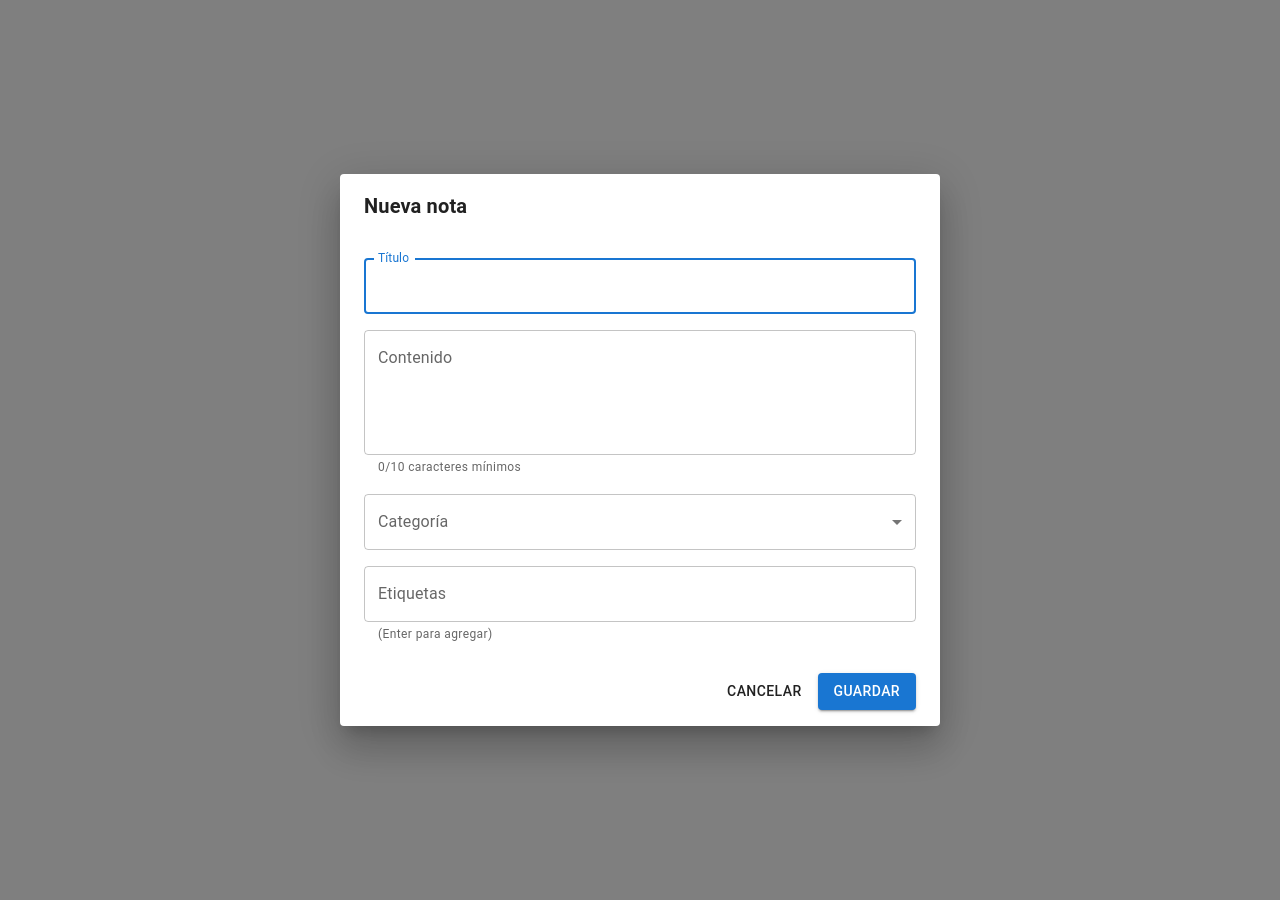
Scenario: NoteForm › shows error when content is too short
In the field labelled "Título": [640, 286] box [364, 258, 916, 314], type "My Title"
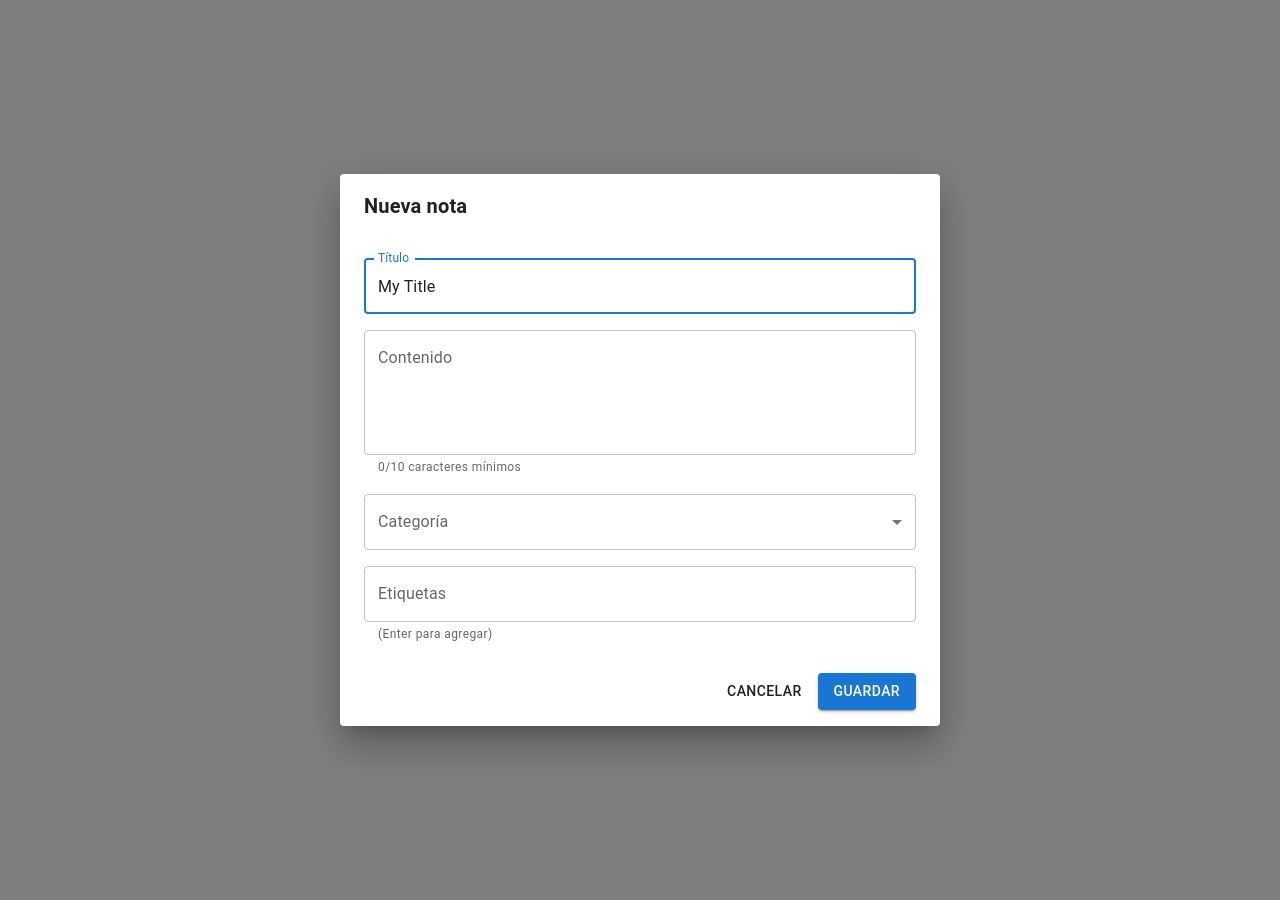
In the text box labelled "Contenido": [640, 393] box [378, 347, 902, 439], type "short"
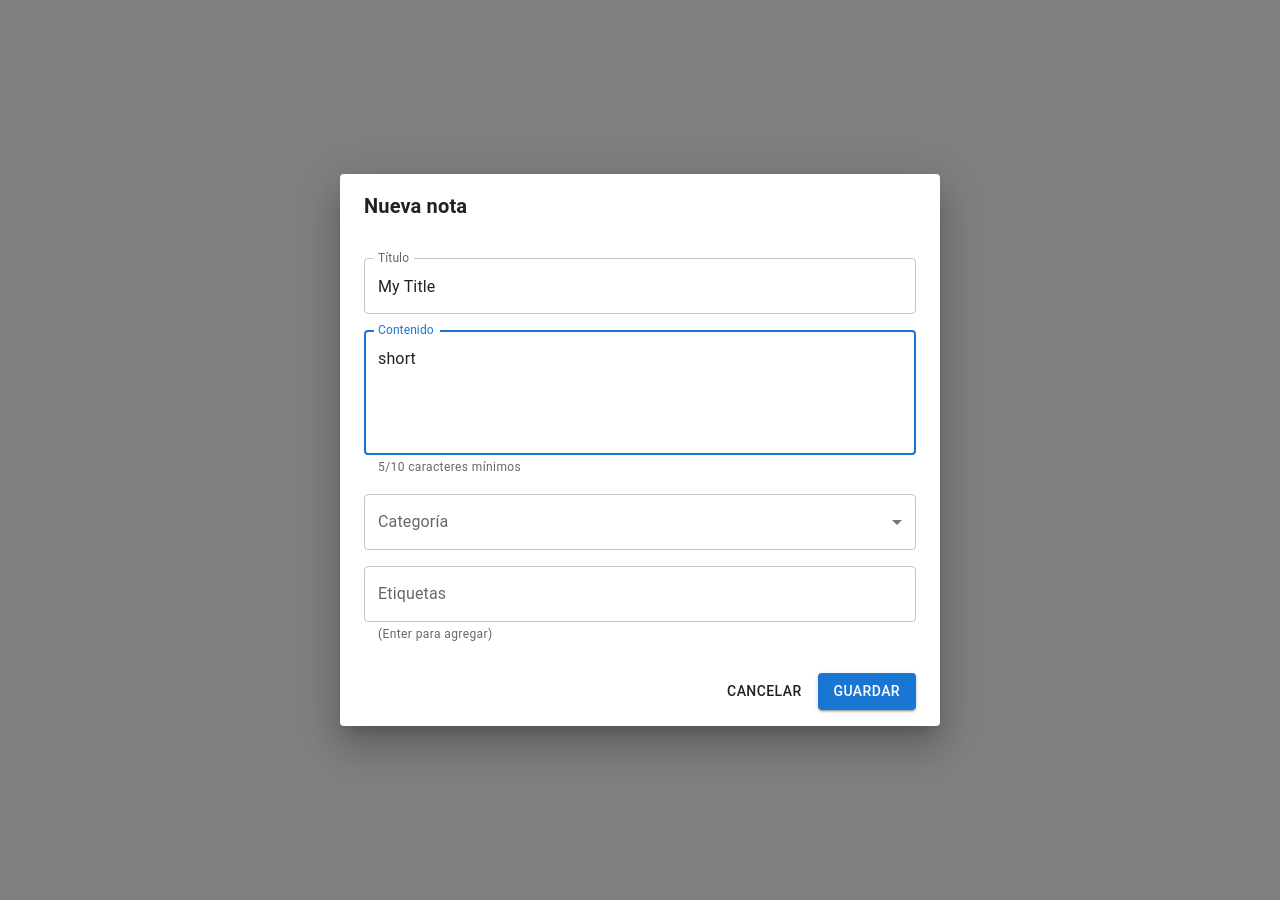
Click the button "Guardar": [867, 691] box [818, 673, 916, 710]
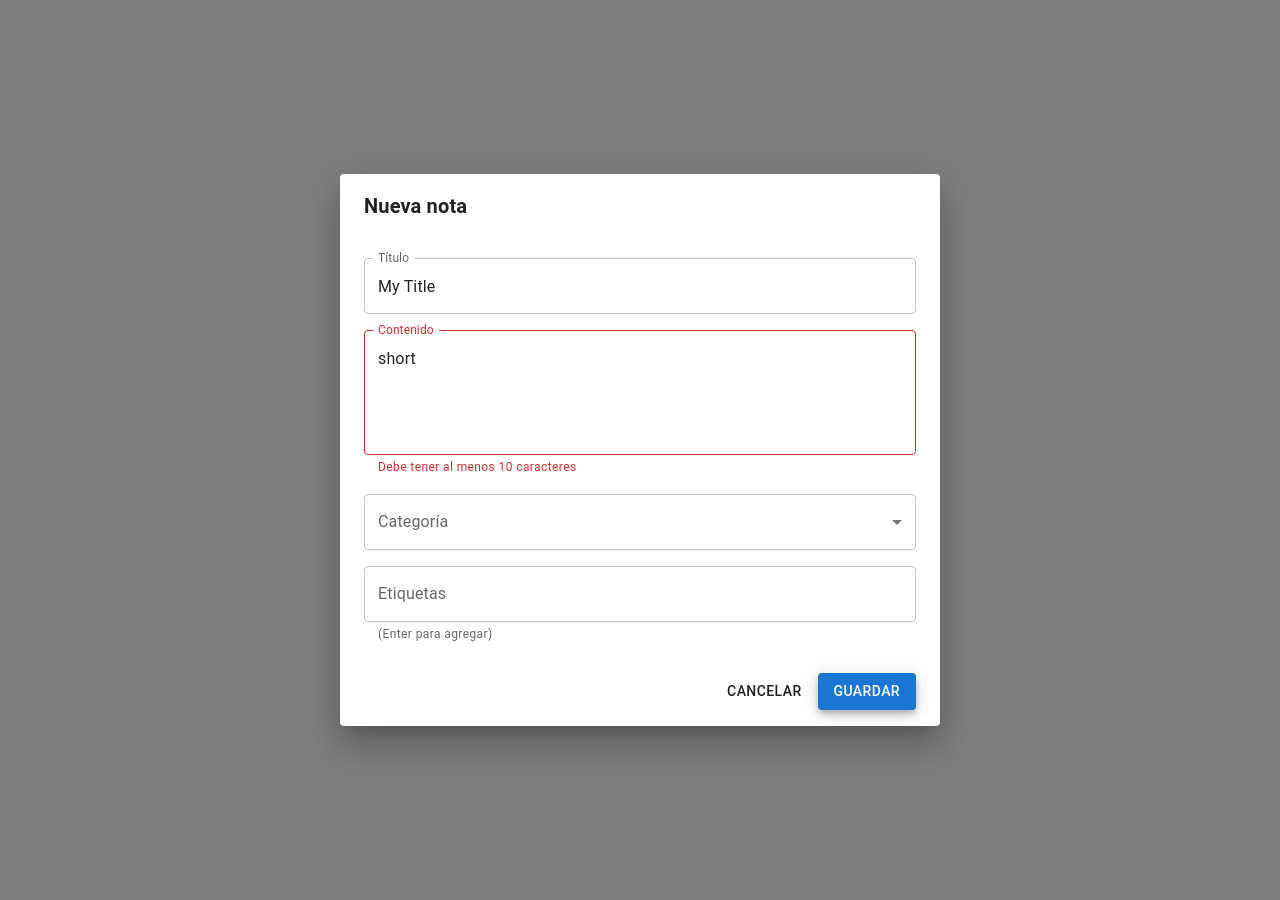
Result: the text "Debe tener al menos 10 caracteres" is shown at [378, 460, 576, 474]
